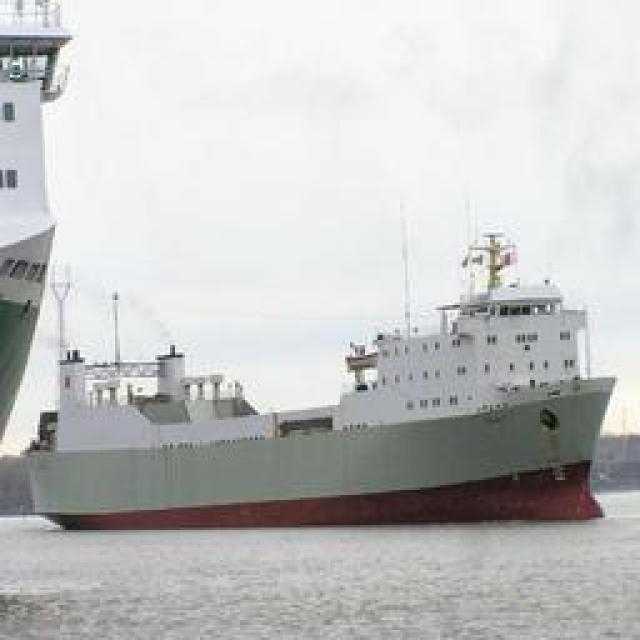Ship: (10, 227, 615, 525)
